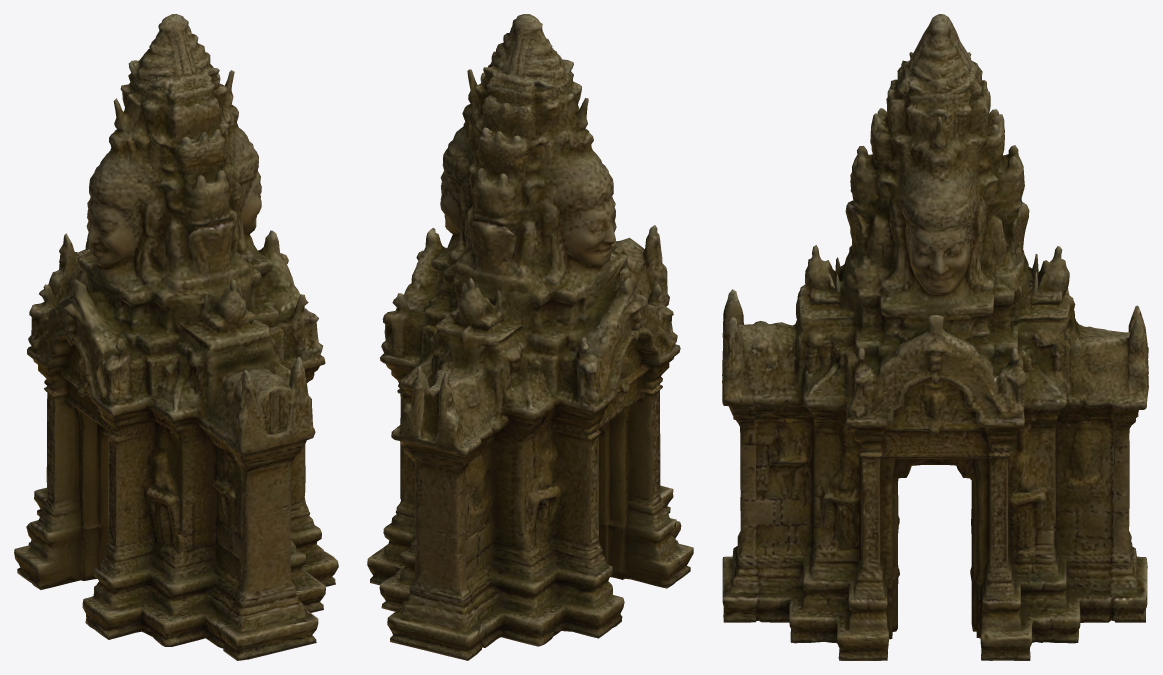
Rendered from tripo_convert_4941f1bc-daa6-447d-b997-5057f906632b.fbx.
3 views of the same model, side by side, from view 1: azimuth 30°, elevation 25°; view 2: azimuth 150°, elevation 25°; view 3: azimuth 270°, elevation 25° (orthographic). The views are drawn at different scales.
Visible parts, largest first — view 1: tripo_node_4941f1bc; view 2: tripo_node_4941f1bc; view 3: tripo_node_4941f1bc.
Part boxes in pixels (x1,y1,x2,y2): tripo_node_4941f1bc: (14,14,338,660); tripo_node_4941f1bc: (367,14,693,660); tripo_node_4941f1bc: (722,14,1148,660).
Bounding box in the file's own units: 0.4334 × 0.9994 × 0.6581.
1 material, 1 textured.
